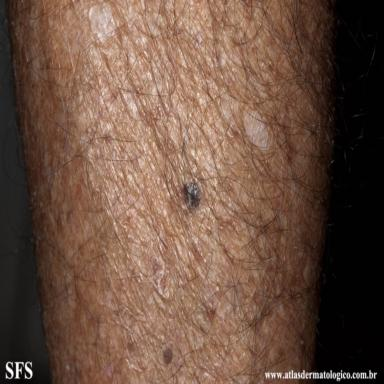Melanoma: (184, 182, 201, 210)
